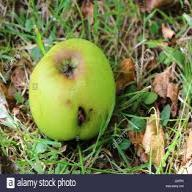apple: (24, 38, 118, 143)
